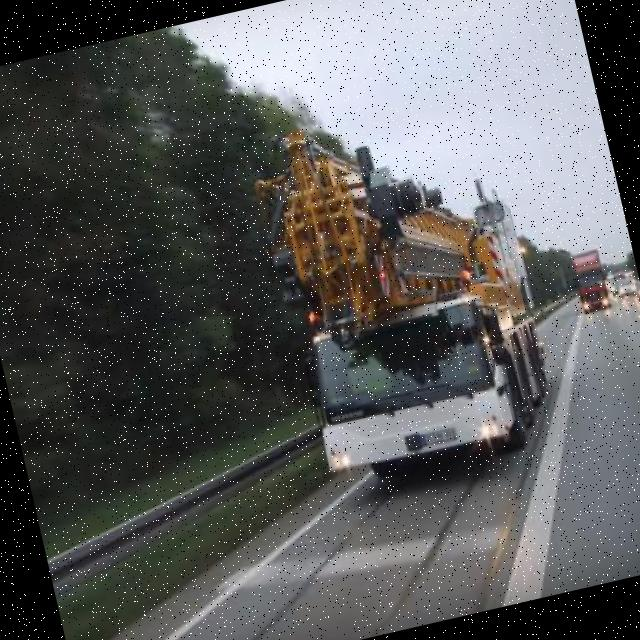Mobile Crane: (249, 94, 563, 498)
